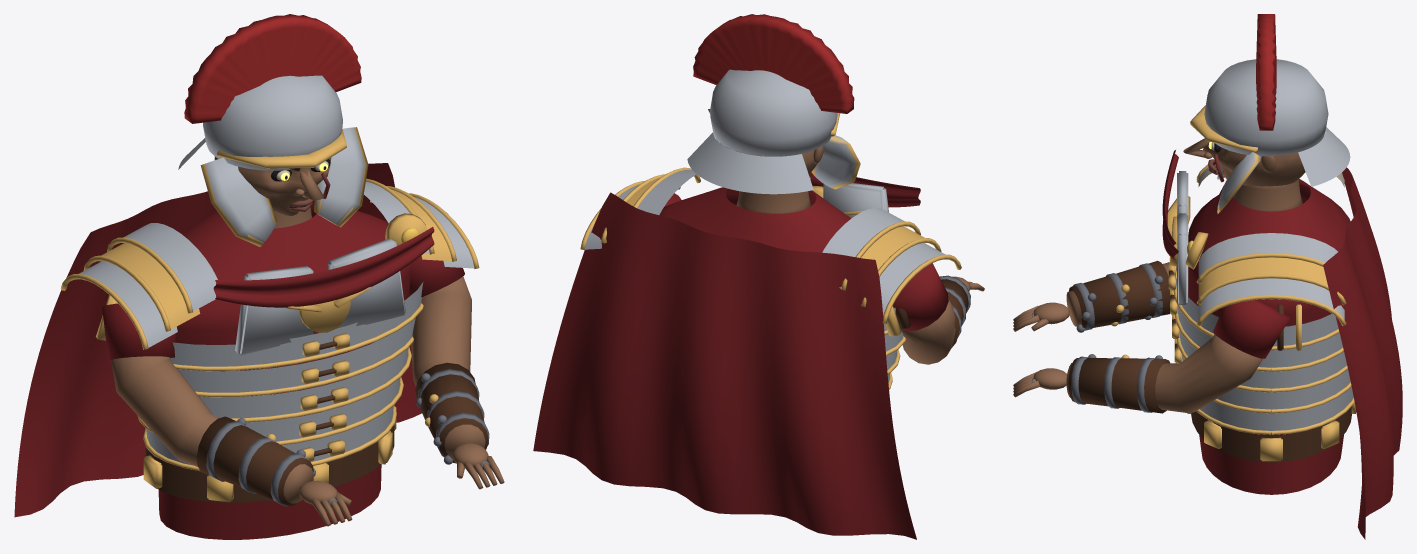
The model's file is opp_rim.glb.
3 renders of one model, left to right at view 1: azimuth 30°, elevation 25°; view 2: azimuth 150°, elevation 25°; view 3: azimuth 270°, elevation 25°, orthographic. The views are drawn at different scales.
Parts seen in each view (by area): view 1: PaludamentumBackCloak, RomanTunicaBase, TransverseHorsehairCrest, GaleaSteelBowl, GladiatorArm_L, PaludamentumChestDrape, GladiatorArm_R, LoricaGirthHoop_3, LeatherVambrace_L, LoricaGirthHoop_4, LoricaGirthHoop_2, RomanCingulumBelt (+30 smaller); view 2: PaludamentumBackCloak, TransverseHorsehairCrest, GaleaSteelBowl, RomanTunicaBase, GaleaNeckFlange, TunicaSleeve_L, GladiatorArm_L, LoricaShoulderPlate_L_0, LoricaChestPlateL, LoricaShoulderPlate_L_2, GaleaCheekGuard_L, SculptedNeck (+5 smaller); view 3: PaludamentumBackCloak, RomanTunicaBase, GaleaSteelBowl, GladiatorArm_R, LeatherVambrace_L, LeatherVambrace_R, TunicaSleeve_R, RomanCingulumBelt, LoricaShoulderPlate_R_0, LoricaGirthHoop_0, LoricaShoulderPlate_R_2, TransverseHorsehairCrest (+24 smaller).
Part boxes in pixels (x1,y1,x2,y2): PaludamentumBackCloak: [14, 163, 421, 517]; RomanTunicaBase: [158, 200, 411, 539]; TransverseHorsehairCrest: [184, 14, 361, 123]; GaleaSteelBowl: [203, 75, 342, 170]; GladiatorArm_L: [111, 356, 313, 503]; PaludamentumChestDrape: [213, 227, 434, 307]; GladiatorArm_R: [411, 276, 485, 459]; LoricaGirthHoop_3: [178, 317, 415, 392]; LeatherVambrace_L: [196, 416, 313, 506]; LoricaGirthHoop_4: [170, 281, 423, 366]; LoricaGirthHoop_2: [199, 348, 408, 418]; RomanCingulumBelt: [145, 425, 394, 502]; PaludamentumBackCloak: [533, 192, 916, 539]; TransverseHorsehairCrest: [693, 14, 854, 113]; GaleaSteelBowl: [710, 69, 837, 156]; RomanTunicaBase: [659, 187, 850, 252]; GaleaNeckFlange: [687, 132, 813, 194]; TunicaSleeve_L: [893, 263, 948, 331]; GladiatorArm_L: [900, 299, 955, 364]; LoricaShoulderPlate_L_0: [822, 208, 904, 288]; LoricaChestPlateL: [823, 183, 888, 218]; LoricaShoulderPlate_L_2: [879, 243, 945, 315]; GaleaCheekGuard_L: [813, 135, 856, 187]; SculptedNeck: [736, 191, 811, 213]; PaludamentumBackCloak: [1323, 167, 1402, 539]; RomanTunicaBase: [1188, 178, 1350, 494]; GaleaSteelBowl: [1204, 59, 1328, 156]; GladiatorArm_R: [1066, 334, 1263, 413]; LeatherVambrace_L: [1069, 260, 1169, 328]; LeatherVambrace_R: [1068, 358, 1169, 413]; TunicaSleeve_R: [1213, 300, 1290, 358]; RomanCingulumBelt: [1191, 407, 1351, 462]; LoricaShoulderPlate_R_0: [1198, 233, 1337, 277]; LoricaGirthHoop_0: [1200, 387, 1353, 433]; LoricaShoulderPlate_R_2: [1198, 278, 1344, 319]; TransverseHorsehairCrest: [1256, 14, 1276, 130].
Bounding box in the file's own units: 0.82 × 0.9106 × 0.7529.
